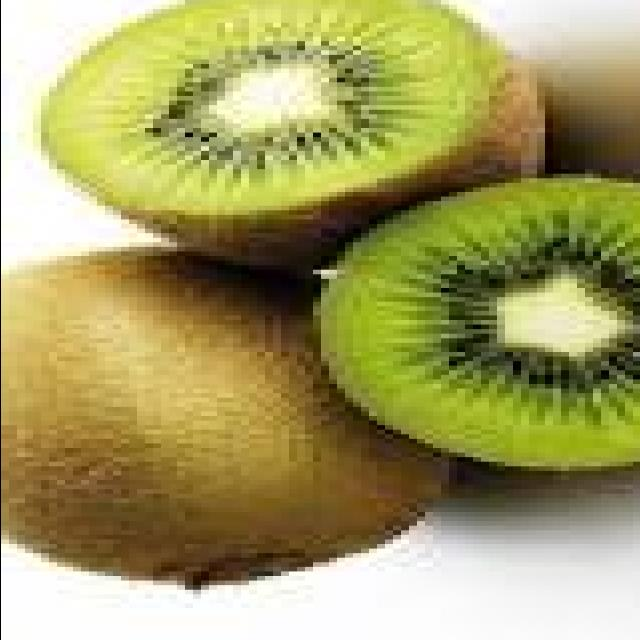kivi: (0, 253, 450, 587), (40, 0, 544, 269), (316, 178, 640, 470)
